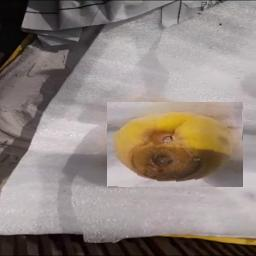Peach Rotten: (108, 103, 244, 188)
